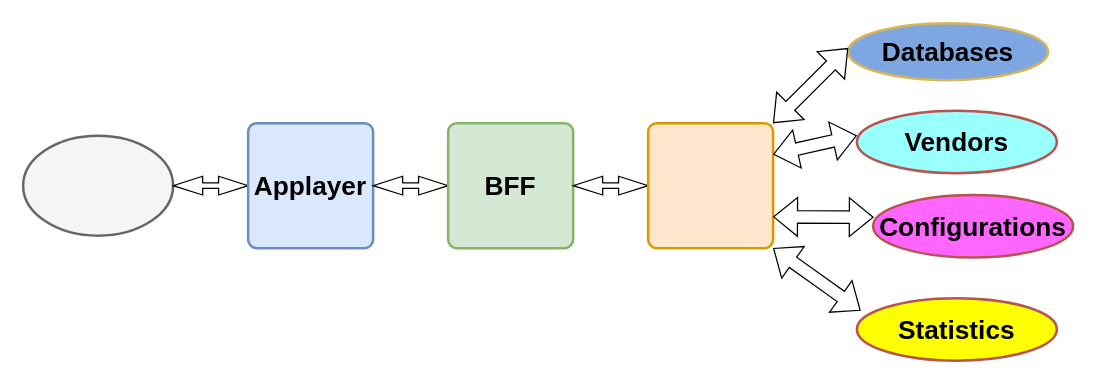
Image size: 1095x383. Some labels were removed from this diagram. Here are the shapes that lost their labels. From the top down, the centre of each, then its label:
At [97,185]: "Frontend".
At [710,185]: "Server".
